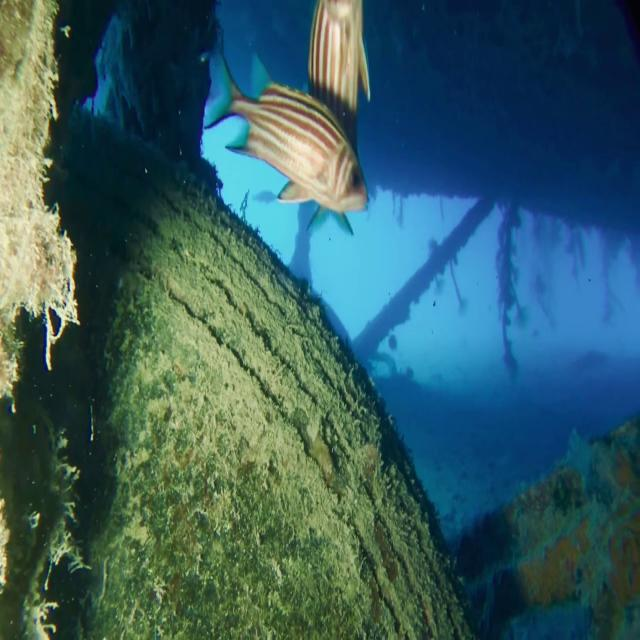Asker Baligi: (202, 40, 370, 237)
